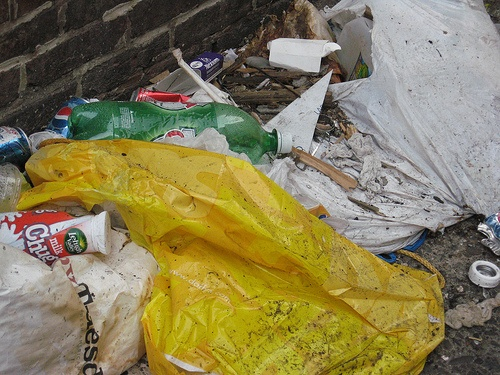rubble: (5, 51, 399, 369)
